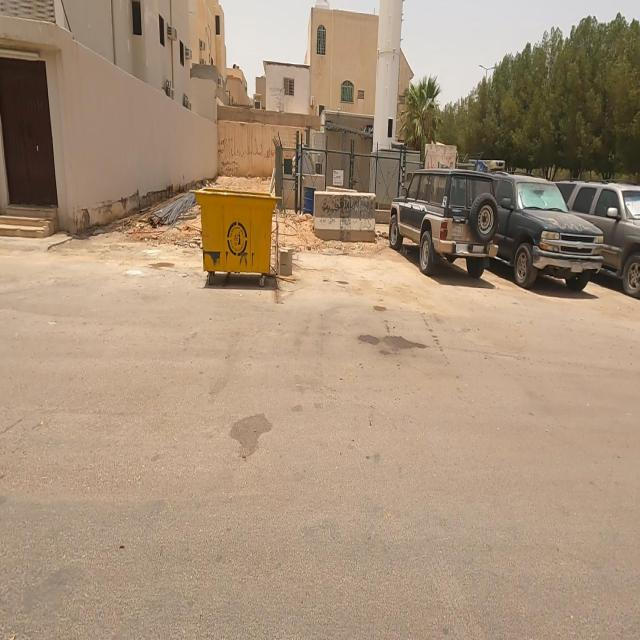Graffiti: (220, 139, 273, 174), (323, 197, 375, 232), (427, 157, 435, 171)
